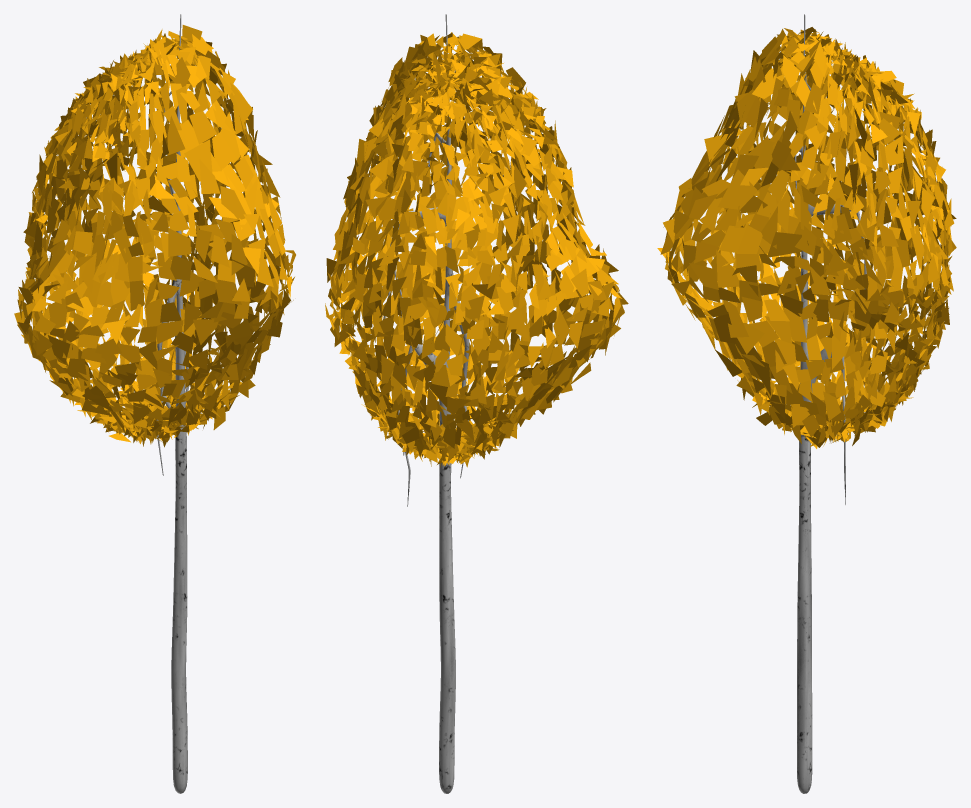
File: Leaves33.002.fbx
3 renders of one model, left to right at view 1: azimuth 30°, elevation 25°; view 2: azimuth 150°, elevation 25°; view 3: azimuth 270°, elevation 25°, orthographic.
Parts seen in each view (by area): view 1: Leaves33.002; view 2: Leaves33.002; view 3: Leaves33.002.
Part boxes in pixels (box(x1,y1,x2,y2)): Leaves33.002: box(14, 14, 295, 793); Leaves33.002: box(325, 14, 628, 793); Leaves33.002: box(657, 14, 956, 793).
Bounding box in the file's own units: 859 × 2574 × 896.
2 materials, 1 textured.
